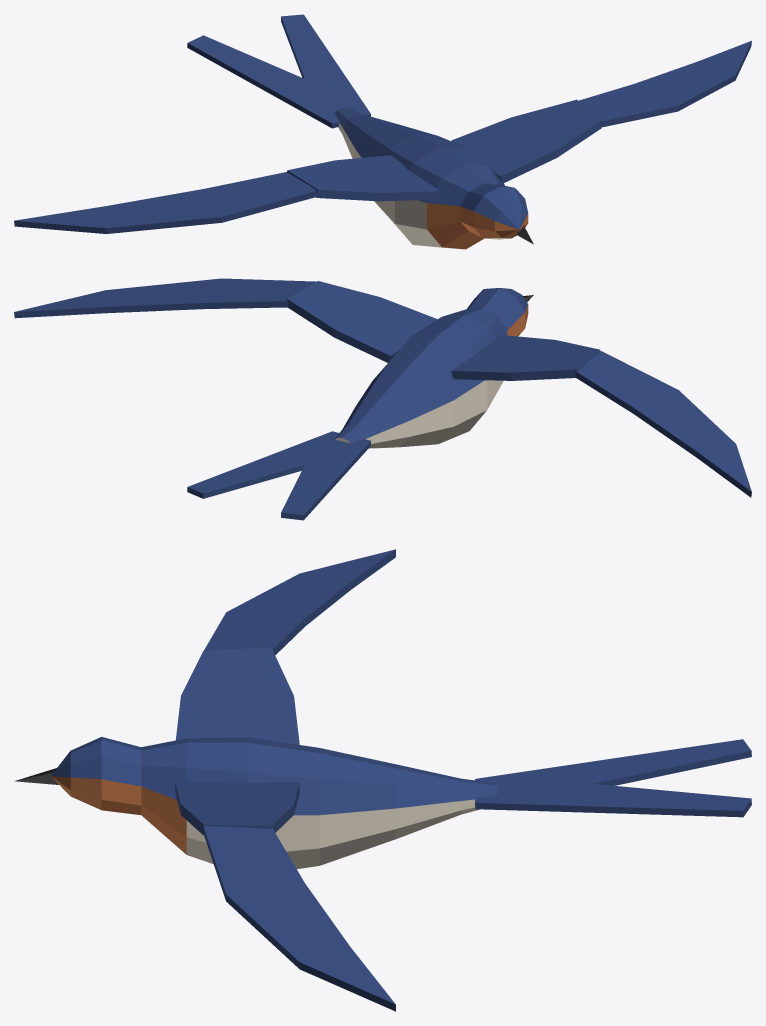
Rendered from swallow.glb.
3 views of the same model, one above another, from view 1: azimuth 30°, elevation 25°; view 2: azimuth 150°, elevation 25°; view 3: azimuth 270°, elevation 25° (orthographic). The views are drawn at different scales.
Visible parts, largest first — view 1: Body, HandR, Tail, WingL, HandL, WingR; view 2: Body, HandR, HandL, Tail, WingL, WingR; view 3: Body, HandL, Tail, WingR, HandR, WingL.
Part boxes in pixels (x1,y1,x2,y2): Body: (335,107,533,249); HandR: (14,172,317,233); Tail: (187,14,370,128); WingL: (451,99,601,183); HandL: (579,40,751,127); WingR: (287,155,439,201); Body: (335,288,533,448); HandR: (575,351,751,497); HandL: (14,278,315,318); Tail: (187,431,370,520); WingL: (287,281,437,362); WingR: (451,335,600,380); Body: (14,737,497,869); HandL: (203,826,395,1011); Tail: (475,739,751,817); WingR: (176,647,299,744); HandR: (204,549,395,655); WingL: (175,782,299,835).
Bounding box in the file's own units: 3.81 × 0.5239 × 2.61.
